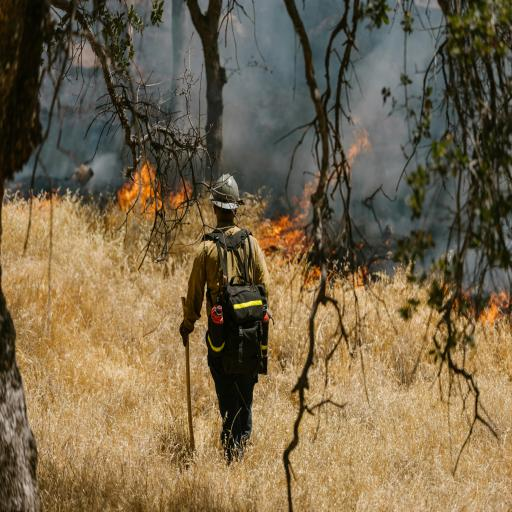wildfire: (0, 10, 512, 431)
